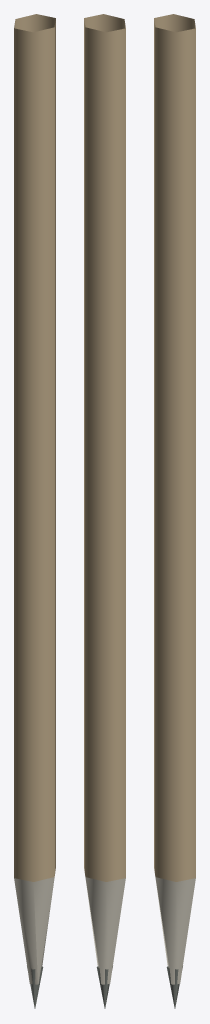
The model's file is resident-pencil.glb.
The picture shows the model from 3 angles, left to right: view 1: azimuth 30°, elevation 25°; view 2: azimuth 150°, elevation 25°; view 3: azimuth 330°, elevation 25°; orthographic projection.
Visible parts, largest first — view 1: resident-pencil authored mesh; view 2: resident-pencil authored mesh; view 3: resident-pencil authored mesh.
Boxes of the visible parts, x1,y1,x2,y2 form: resident-pencil authored mesh: (14,14,55,1008); resident-pencil authored mesh: (84,14,125,1008); resident-pencil authored mesh: (154,14,195,1008).
Size of the model in its own units: 0.008 by 0.18 by 0.006.
